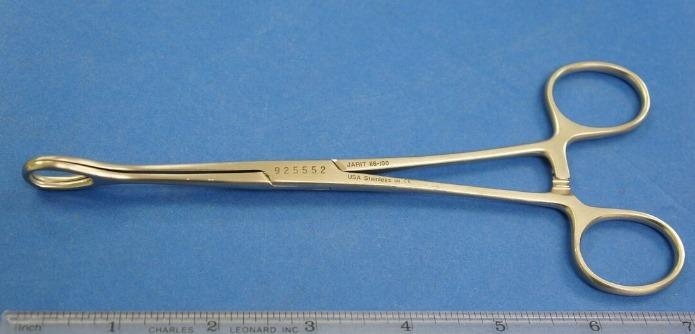Sponge Holding Forceps: (23, 52, 688, 304)
